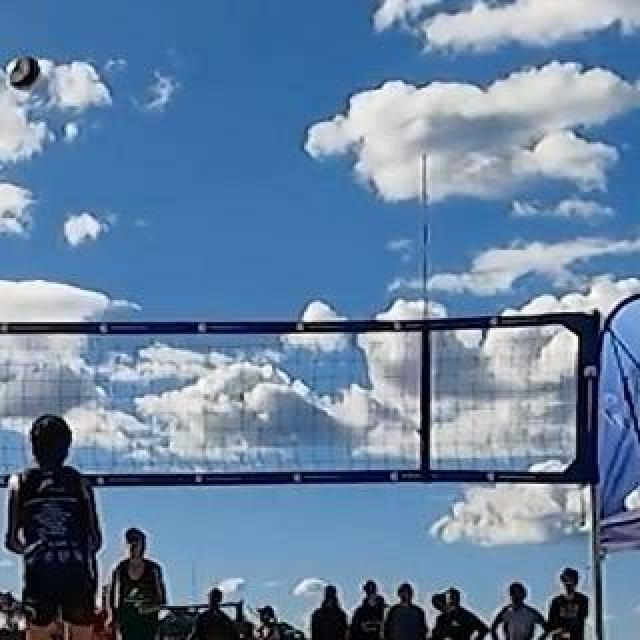volleyball: (11, 58, 39, 88)
